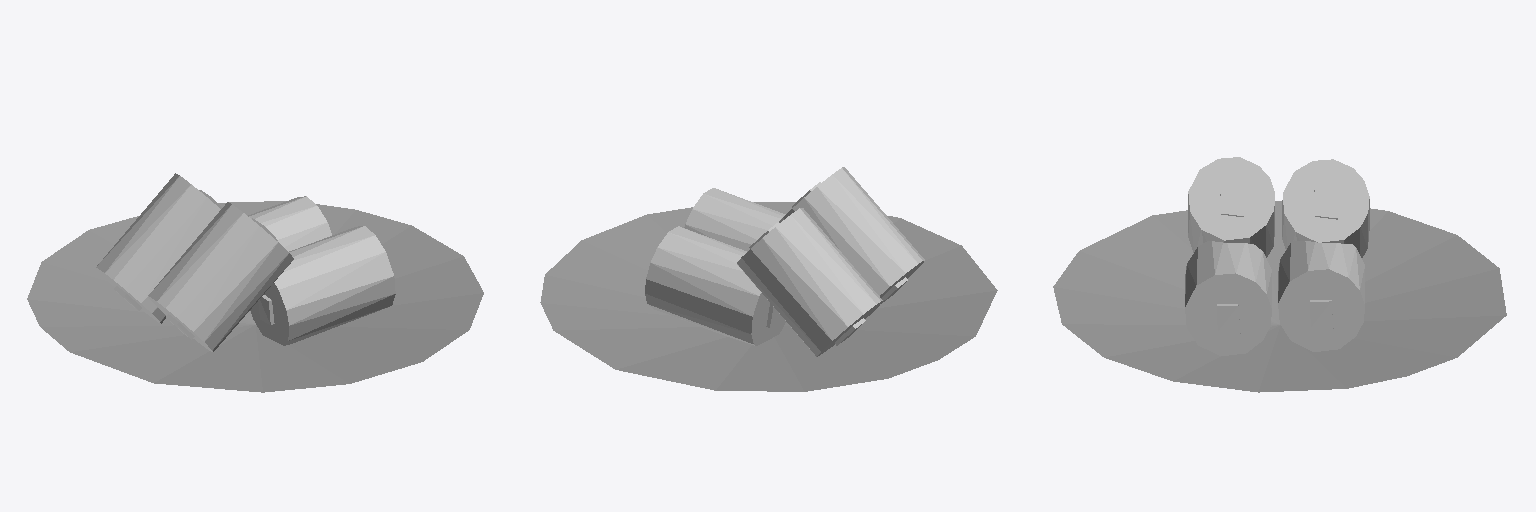
The model's file is sushi_w.obj.
3 views of the same model, side by side, from view 1: azimuth 30°, elevation 25°; view 2: azimuth 150°, elevation 25°; view 3: azimuth 270°, elevation 25° (orthographic).
Parts seen in each view (by area): view 1: plate_Cone, Cylinder002_Cylinder003, Cylinder, Cylinder004_Cylinder005, Cylinder001_Cylinder002; view 2: plate_Cone, Cylinder004_Cylinder005, Cylinder001_Cylinder002, Cylinder002_Cylinder003, Cylinder; view 3: plate_Cone, Cylinder, Cylinder001_Cylinder002, Cylinder002_Cylinder003, Cylinder004_Cylinder005.
Boxes of the visible parts, <box> form: plate_Cone: <box>27,201,483,392</box>; Cylinder002_Cylinder003: <box>148,202,293,351</box>; Cylinder: <box>250,226,395,345</box>; Cylinder004_Cylinder005: <box>95,173,221,323</box>; Cylinder001_Cylinder002: <box>248,196,331,251</box>; plate_Cone: <box>540,202,997,391</box>; Cylinder004_Cylinder005: <box>737,208,882,356</box>; Cylinder001_Cylinder002: <box>645,226,785,345</box>; Cylinder002_Cylinder003: <box>779,167,924,303</box>; Cylinder: <box>684,188,785,251</box>; plate_Cone: <box>1053,201,1506,392</box>; Cylinder: <box>1185,241,1271,355</box>; Cylinder001_Cylinder002: <box>1278,240,1364,351</box>; Cylinder002_Cylinder003: <box>1188,157,1274,257</box>; Cylinder004_Cylinder005: <box>1282,159,1369,257</box>.
Size of the model in its own units: 0.991 by 0.3723 by 0.9875.